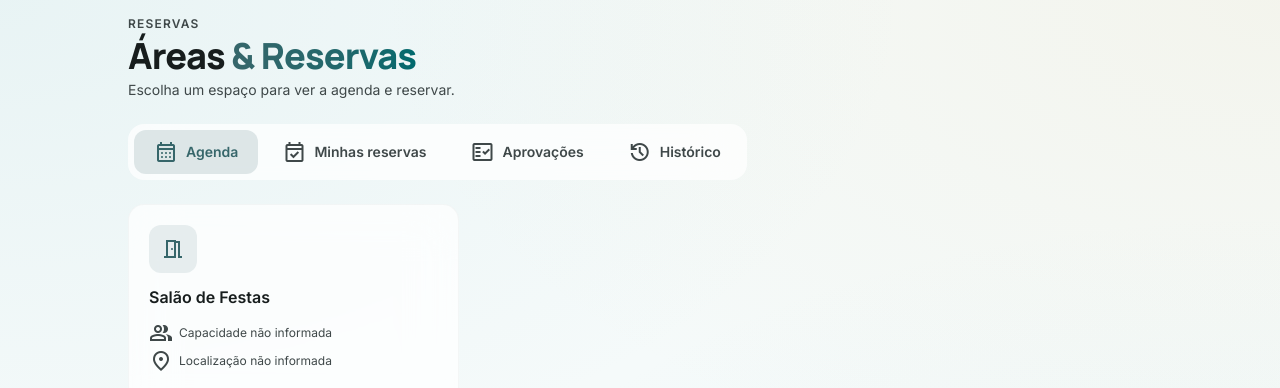
MinhasReservas — síndico › fila vazia é dita em palavras
The image size is (1280, 388).
Click the button "Aprovações" at (527, 152), box [450,130,604,174]
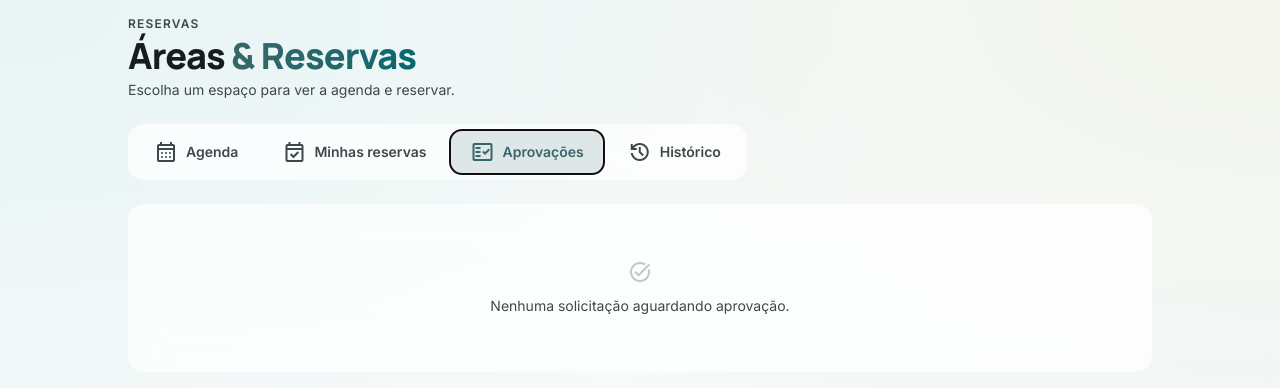
Now the text "Nenhuma solicitação aguardando aprovação." is shown, box [490,296,790,316]
